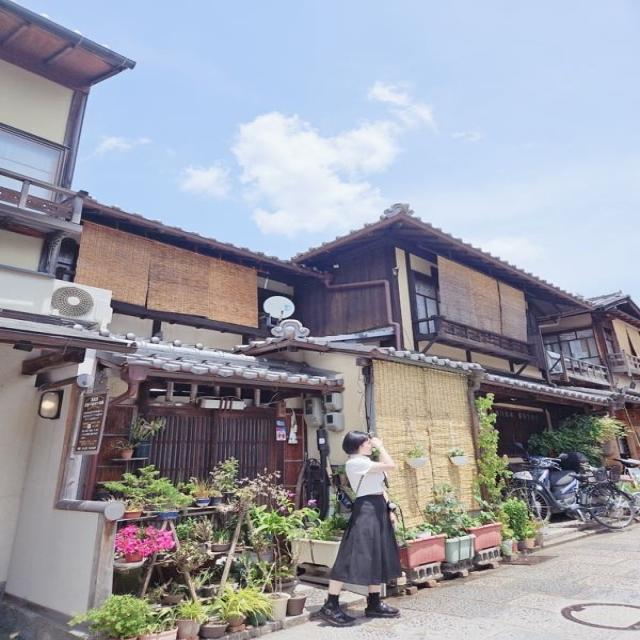shortsleeve: (346, 454, 386, 499)
skirt: (328, 495, 405, 586)
